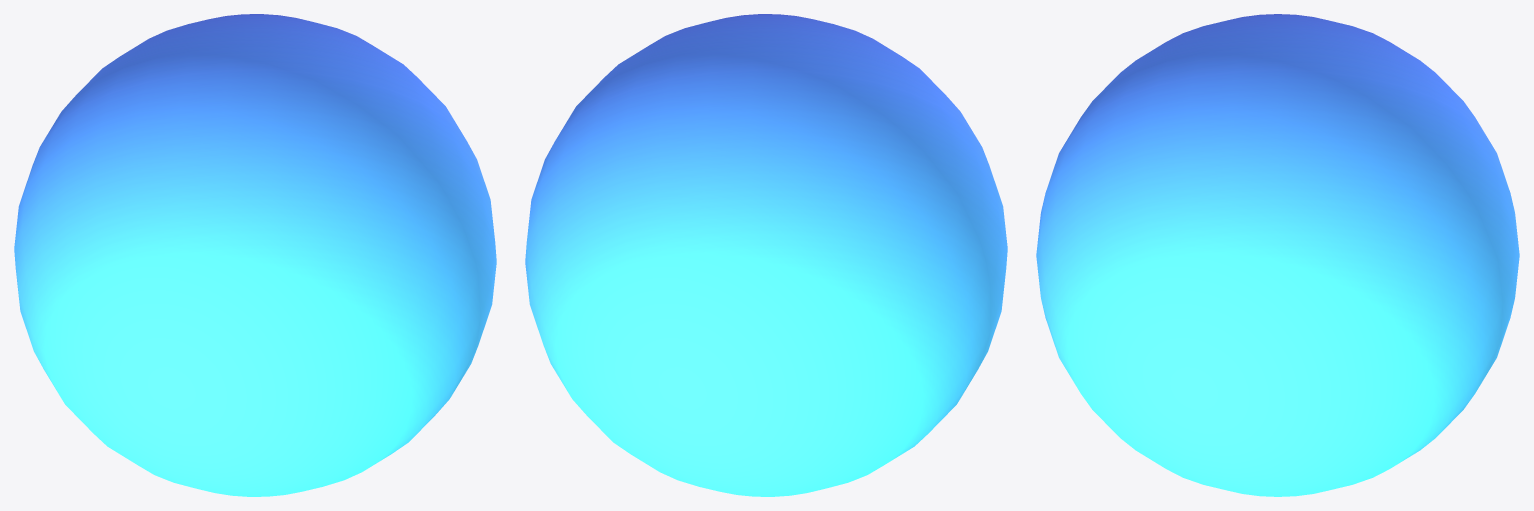
File: sky.glb
3 renders of one model, left to right at view 1: azimuth 30°, elevation 25°; view 2: azimuth 150°, elevation 25°; view 3: azimuth 270°, elevation 25°, orthographic.
Visible parts, largest first — view 1: Object_20; view 2: Object_20; view 3: Object_20.
Boxes of the visible parts, x1,y1,x2,y2 form: Object_20: (14,14,496,496); Object_20: (525,14,1007,496); Object_20: (1036,14,1519,496).
Bounding box in the file's own units: 364 × 367 × 364.
1 material, 1 textured.
